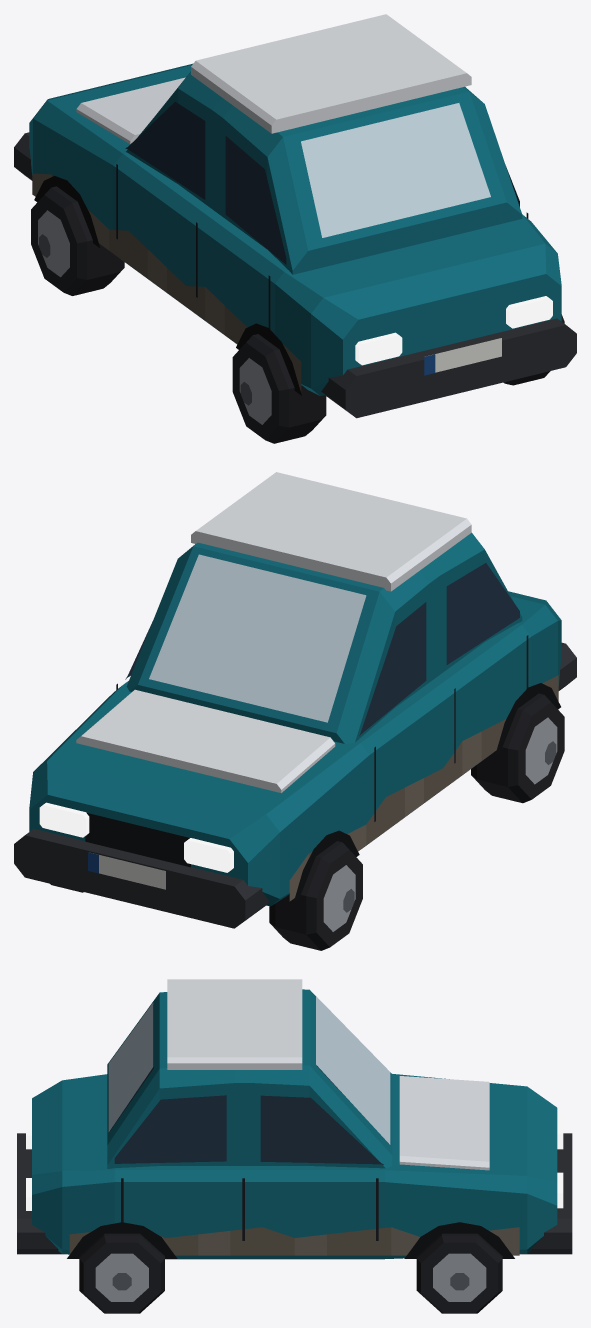
File: small_lo.glb
The picture shows the model from 3 angles, top to bottom: view 1: azimuth 30°, elevation 25°; view 2: azimuth 150°, elevation 25°; view 3: azimuth 270°, elevation 25°; orthographic projection. The views are drawn at different scales.
Visible parts, largest first — view 1: body.008, wheel_RL.008, wheel_FL.008; view 2: body.008, wheel_FL.008, wheel_RL.008; view 3: body.008, wheel_FR.008, wheel_RR.008.
Boxes of the visible parts, left/top/right/bottom form: body.008: left=14, top=14, right=576, bottom=418; wheel_RL.008: left=232, top=334, right=326, bottom=443; wheel_FL.008: left=31, top=186, right=124, bottom=295; body.008: left=14, top=472, right=576, bottom=928; wheel_FL.008: left=269, top=841, right=362, bottom=950; wheel_RL.008: left=471, top=693, right=564, bottom=803; body.008: left=17, top=979, right=572, bottom=1259; wheel_FR.008: left=416, top=1233, right=502, bottom=1313; wheel_RR.008: left=79, top=1233, right=164, bottom=1313.
Size of the model in its own units: 1.96 by 1.77 by 3.75.
